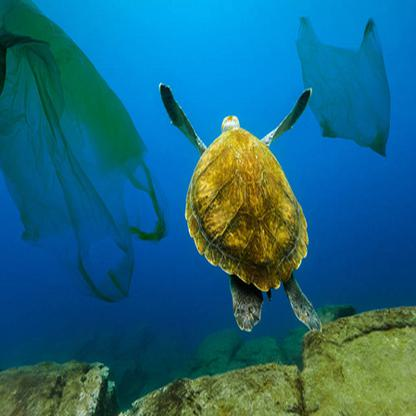plastic bag: (1, 1, 166, 300), (297, 13, 395, 157)
